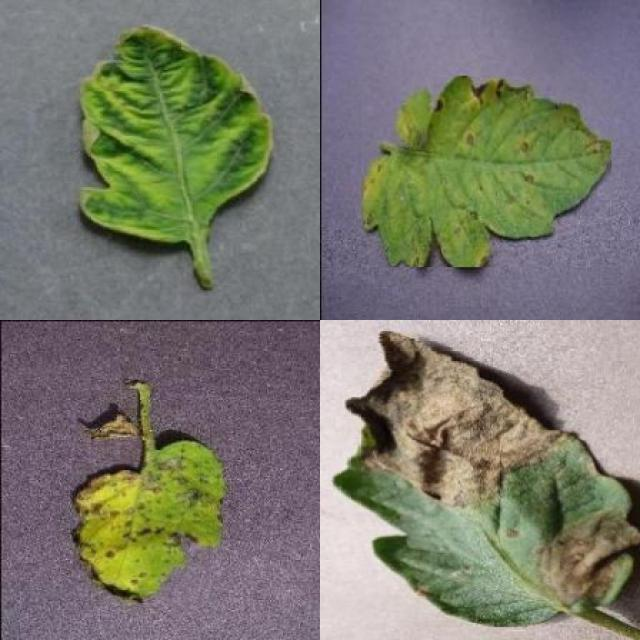Late Blight: (333, 327, 640, 627)
Septoria: (358, 76, 612, 268), (71, 440, 223, 606)
Yellow Leaf Curl Virus: (79, 25, 274, 248)
